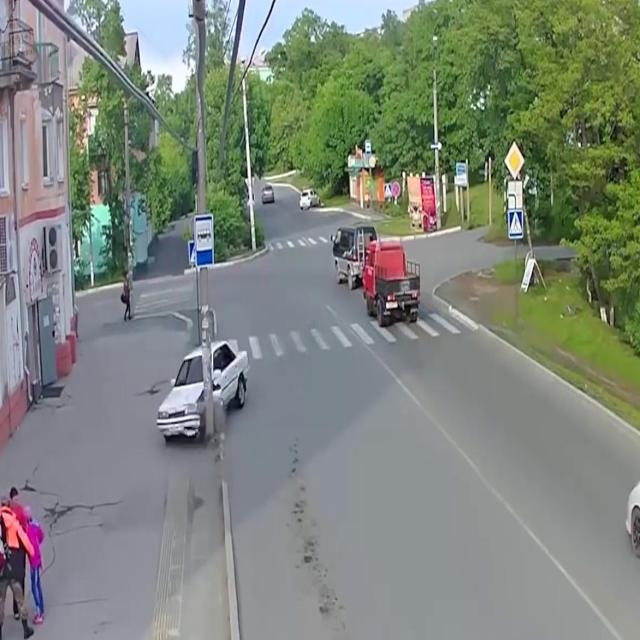accident: (156, 322, 252, 463)
non_accident: (330, 213, 434, 345)
